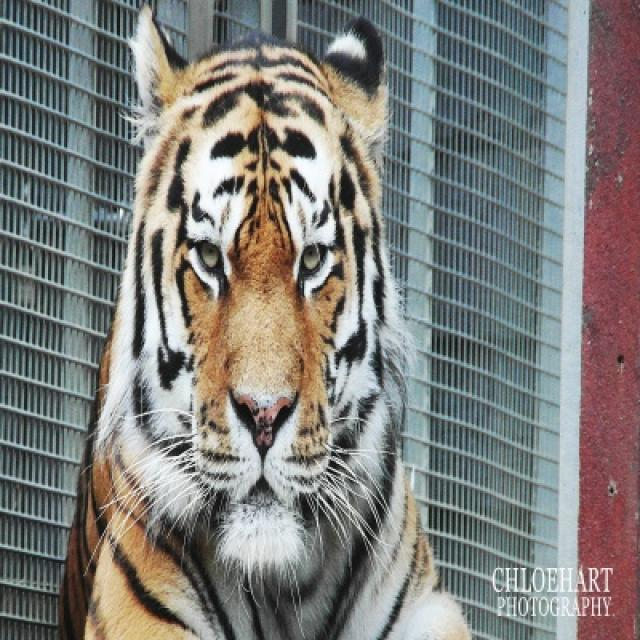Tiger: (146, 58, 391, 637)
